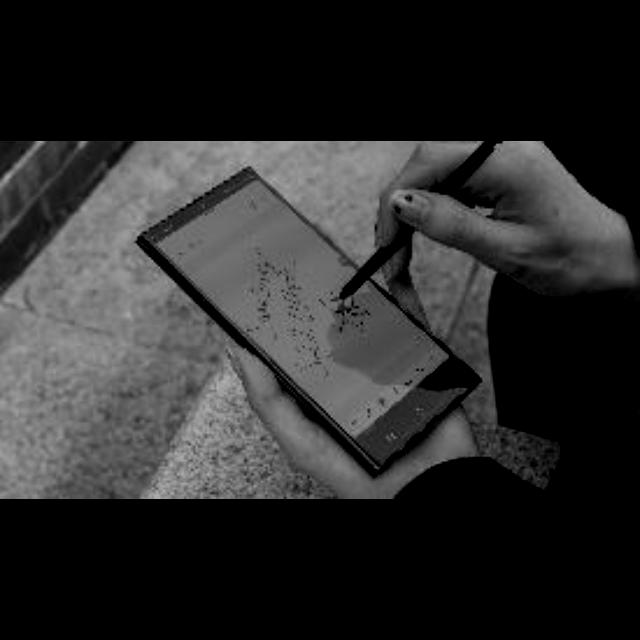fake: (124, 162, 518, 480)
